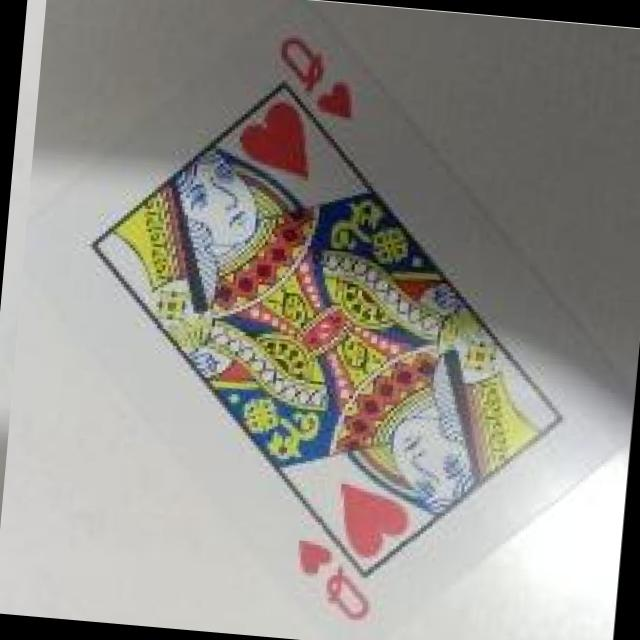Queen of hearts: (26, 0, 632, 640)
